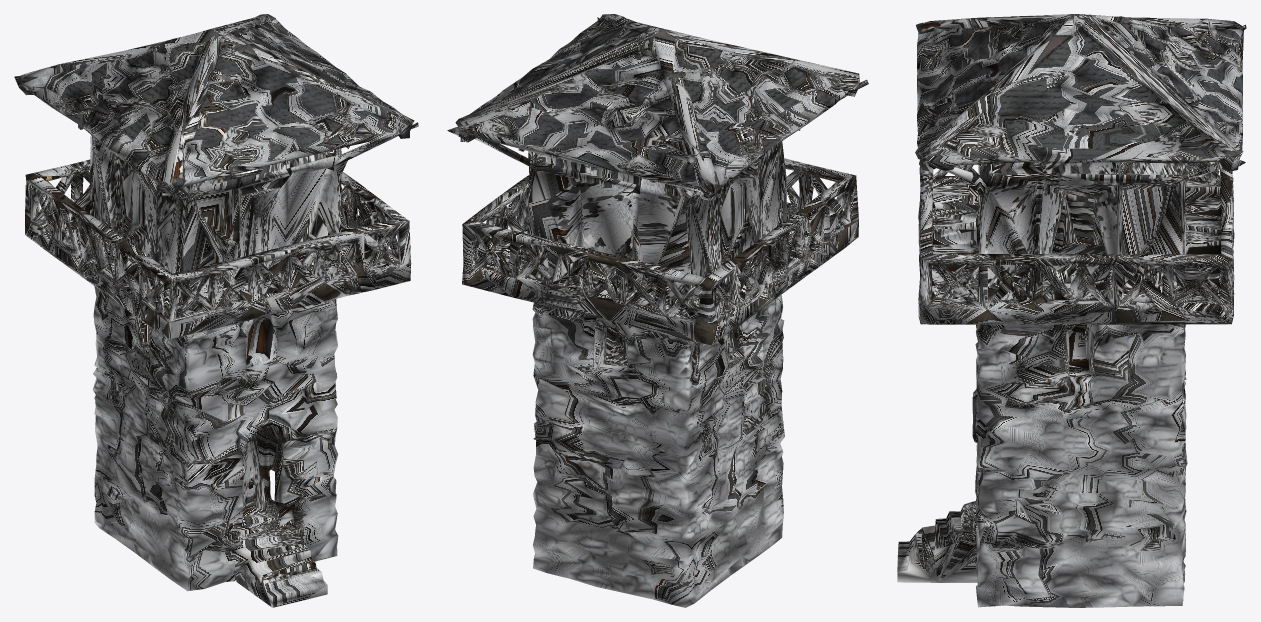
The model's file is gt_limes.glb.
The picture shows the model from 3 angles, left to right: view 1: azimuth 30°, elevation 25°; view 2: azimuth 150°, elevation 25°; view 3: azimuth 270°, elevation 25°; orthographic projection. The views are drawn at different scales.
Parts seen in each view (by area): view 1: gt_limes; view 2: gt_limes; view 3: gt_limes.
Boxes of the visible parts, left/top/right/bottom form: gt_limes: left=14, top=14, right=418, bottom=607; gt_limes: left=447, top=14, right=868, bottom=607; gt_limes: left=897, top=14, right=1246, bottom=607.
Bounding box in the file's own units: 1.03 × 1.9 × 1.09.
1 material, 1 textured.
